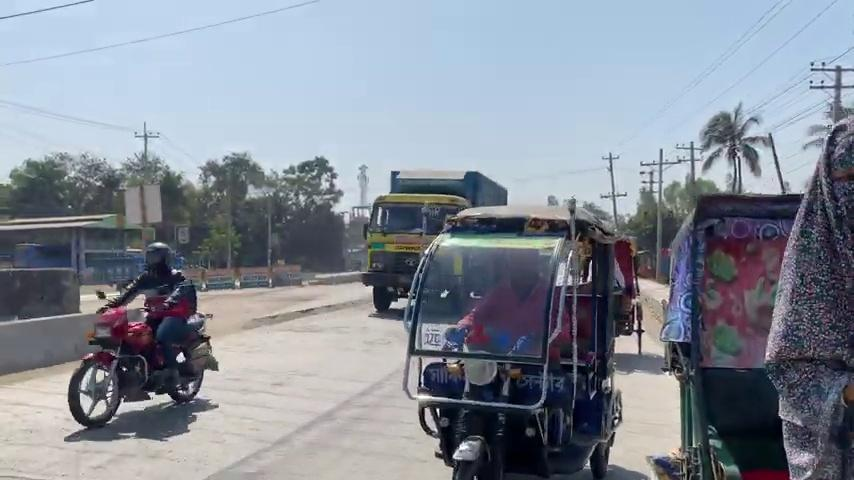Curb: (67, 277, 219, 427)
Fence: (763, 114, 853, 479), (96, 241, 197, 392)
Railroad-crossing: (196, 150, 265, 269), (698, 100, 764, 193)
Rickshaw: (400, 203, 639, 479), (357, 168, 508, 311)
